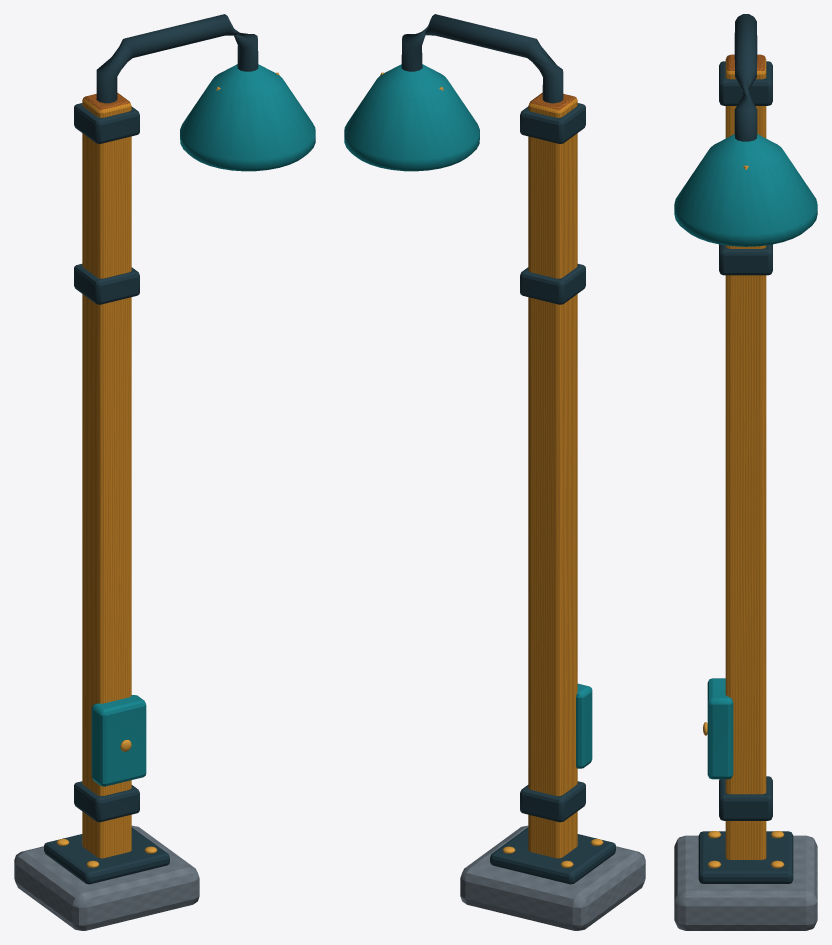
Rendered from Prop_Lineside_TracksideLamp_001.glb.
3 renders of one model, left to right at view 1: azimuth 30°, elevation 25°; view 2: azimuth 150°, elevation 25°; view 3: azimuth 270°, elevation 25°, orthographic. The views are drawn at different scales.
Parts seen in each view (by area): view 1: TracksideLamp_Body; view 2: TracksideLamp_Body; view 3: TracksideLamp_Body.
Part boxes in pixels (x1,y1,x2,y2): TracksideLamp_Body: (14,14,315,930); TracksideLamp_Body: (344,14,645,930); TracksideLamp_Body: (674,14,817,930).
Size of the model in its own units: 1.25 by 3.87 by 0.56.
2 materials, 1 textured.
